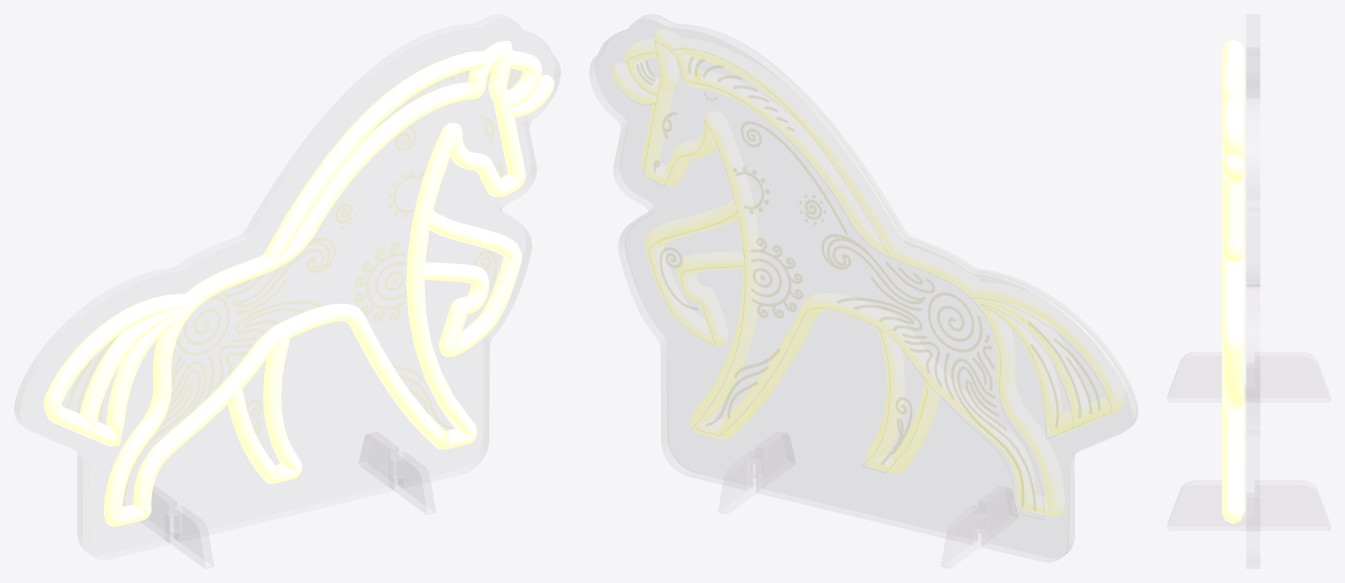
File: КІНЬ САЙТ_19.06.26_.glb
3 views of the same model, side by side, from view 1: azimuth 30°, elevation 25°; view 2: azimuth 150°, elevation 25°; view 3: azimuth 270°, elevation 25° (orthographic). The views are drawn at different scales.
Parts seen in each view (by area): view 1: Curve.011, Curve.008, Curve.001, Curve.420, Curve.006; view 2: Curve.011, Curve.008, Curve.001, Curve.420, Curve.006; view 3: Curve.008, Curve.011, Curve.006, Curve.420.
Boxes of the visible parts, bbox=[...] form: Curve.011: bbox=[14, 14, 559, 559]; Curve.008: bbox=[43, 40, 554, 526]; Curve.001: bbox=[21, 19, 560, 555]; Curve.420: bbox=[359, 432, 435, 513]; Curve.006: bbox=[141, 486, 213, 568]; Curve.011: bbox=[590, 15, 1137, 561]; Curve.008: bbox=[612, 28, 1125, 516]; Curve.001: bbox=[596, 14, 1137, 553]; Curve.420: bbox=[719, 432, 794, 513]; Curve.006: bbox=[941, 486, 1017, 568]; Curve.008: bbox=[1221, 40, 1244, 523]; Curve.011: bbox=[1246, 14, 1259, 568]; Curve.006: bbox=[1168, 352, 1329, 402]; Curve.420: bbox=[1168, 480, 1329, 530].
Bounding box in the file's own units: 0.3186 × 0.2514 × 0.0701.
3 materials, 1 textured.
